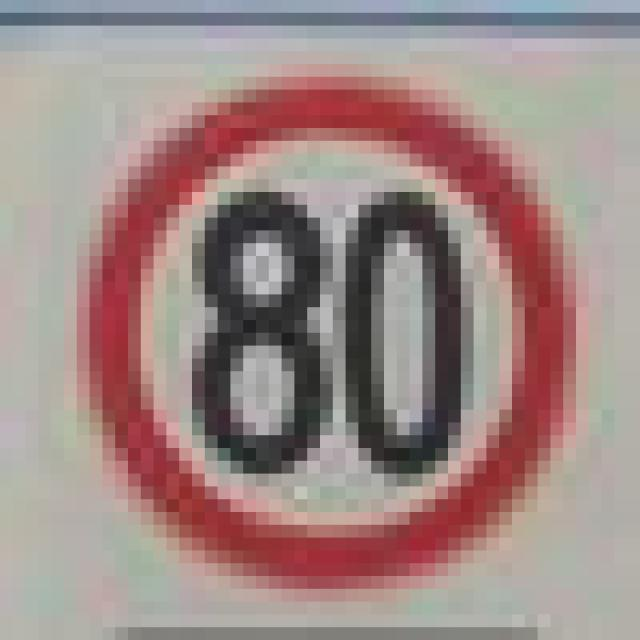speed_limit_50: (77, 64, 576, 576)
